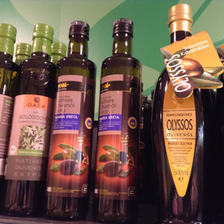oil: (151, 4, 207, 223), (1, 23, 56, 216), (93, 18, 143, 224), (48, 20, 96, 222)
